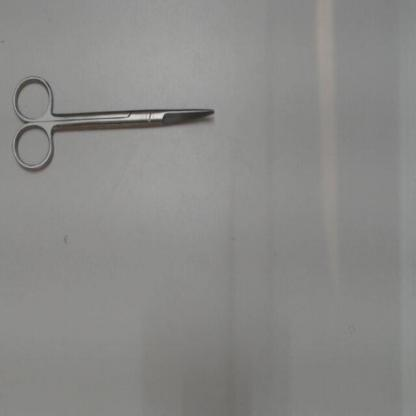Curved Mayo Scissors: (10, 69, 220, 178)
